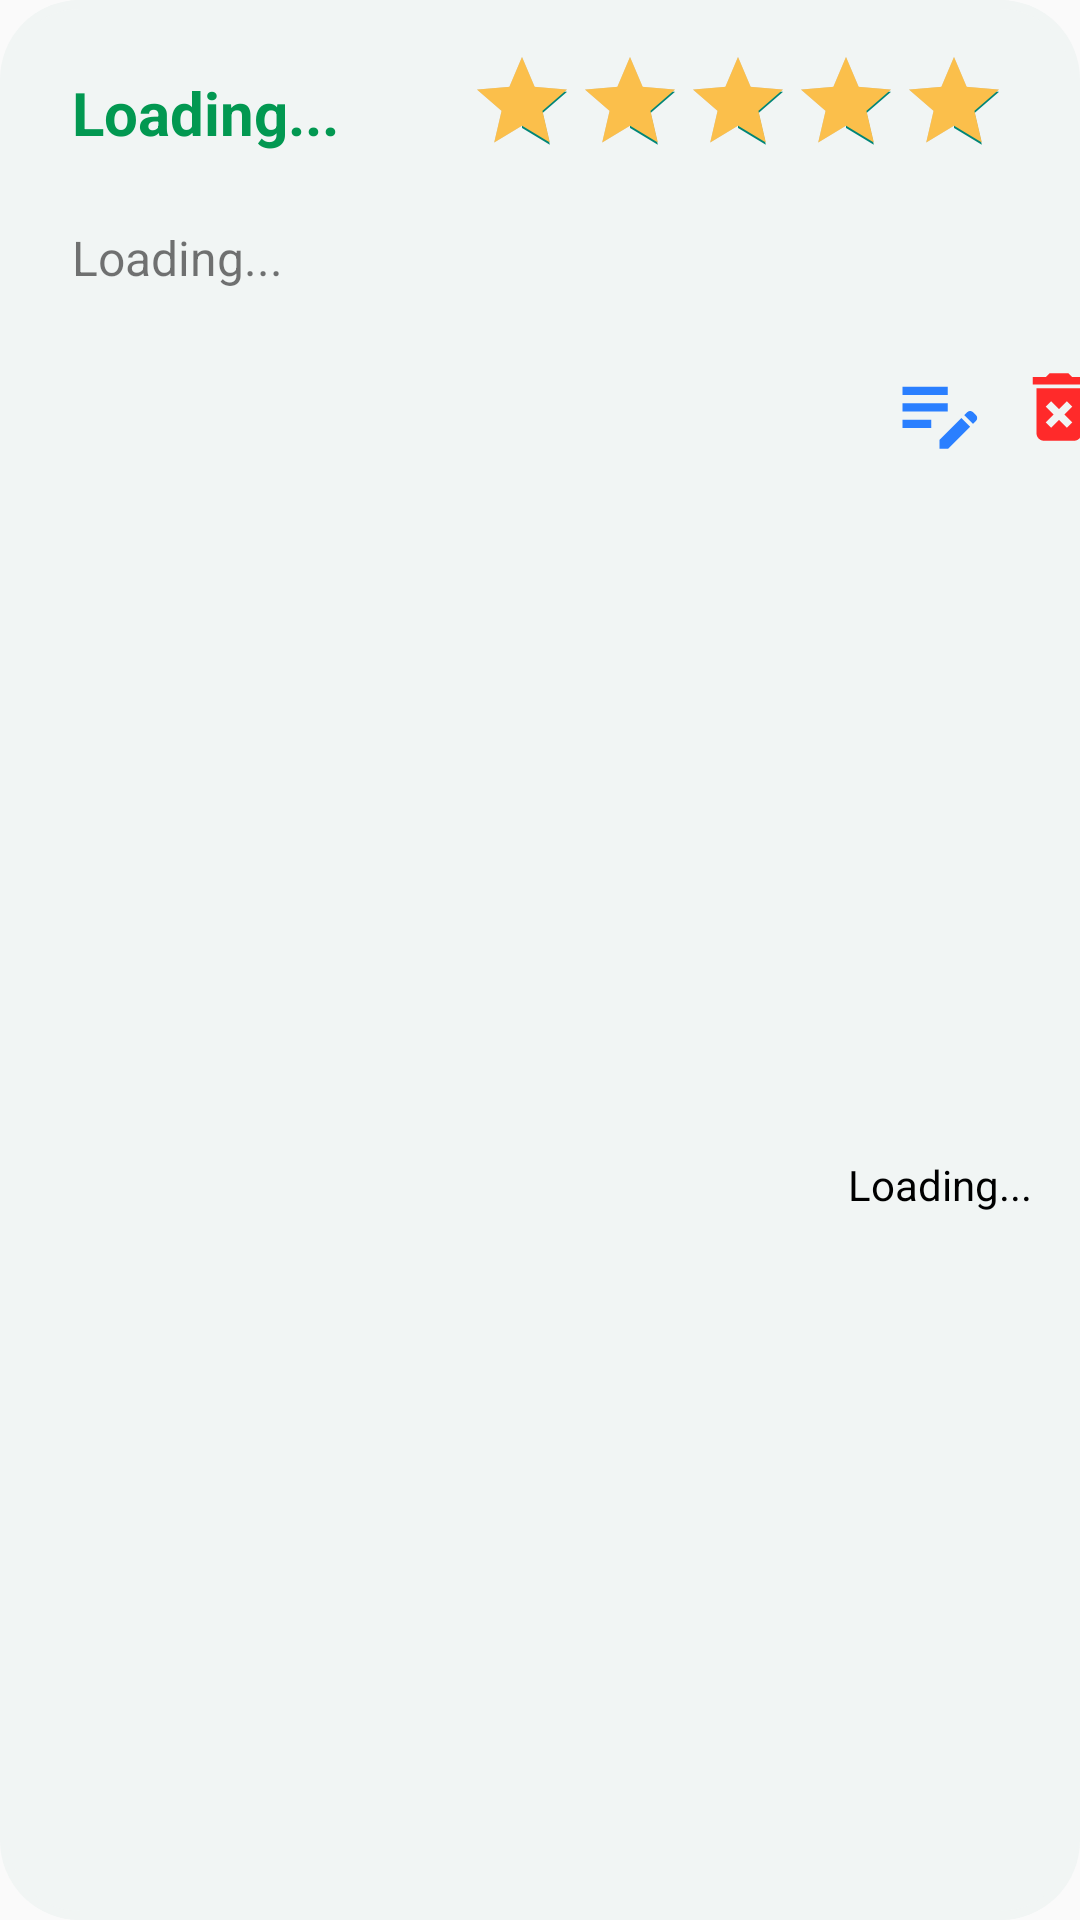

Icon bounding boxes for this 1080 × 1920 phone screenshot, format [x1=x1, y1=y1, x2=x2, y2=y2]:
Edit: [x1=902, y1=386, x2=977, y2=449]
